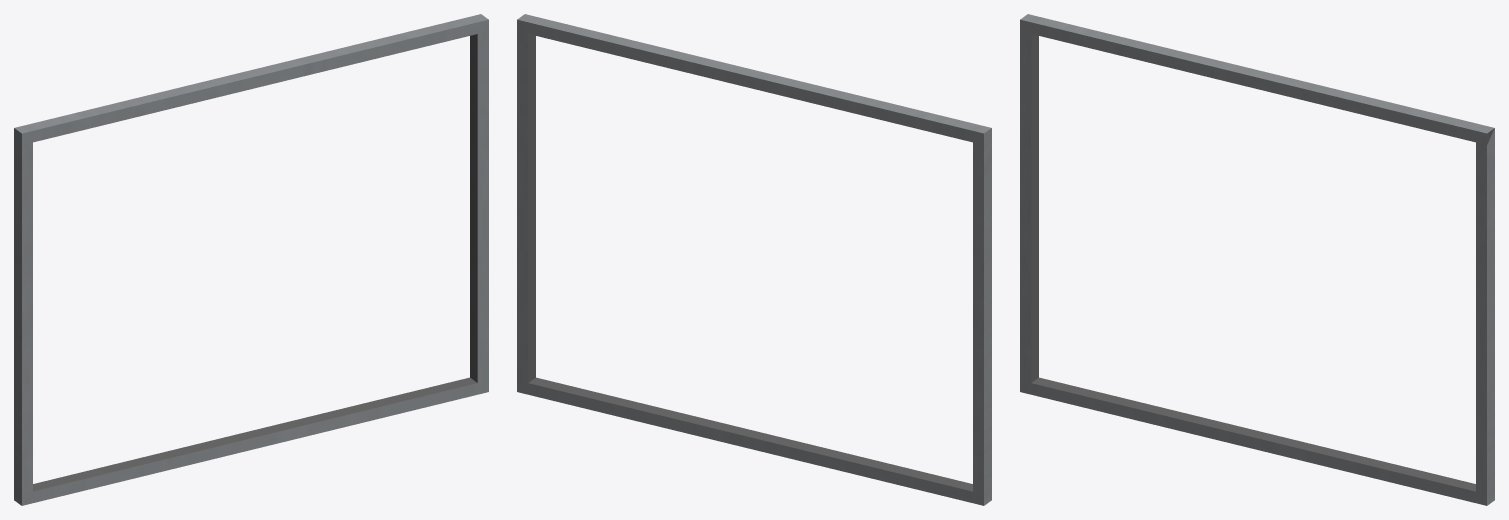
The model's file is grunge_frame.obj.
3 views of the same model, side by side, from view 1: azimuth 30°, elevation 25°; view 2: azimuth 150°, elevation 25°; view 3: azimuth 330°, elevation 25° (orthographic).
Visible parts, largest first — view 1: group_0.001_ID11, group_0_ID3; view 2: group_0.001_ID11, group_0_ID3; view 3: group_0.001_ID11, group_0_ID3.
Part boxes in pixels (box(x1,y1,x2,y2)): group_0.001_ID11: box(14, 14, 488, 505); group_0_ID3: box(33, 34, 477, 491); group_0.001_ID11: box(517, 14, 991, 505); group_0_ID3: box(528, 34, 972, 491); group_0.001_ID11: box(1020, 14, 1494, 505); group_0_ID3: box(1031, 34, 1475, 491).
Bounding box in the file's own units: 1.05 × 0.8001 × 0.03.
